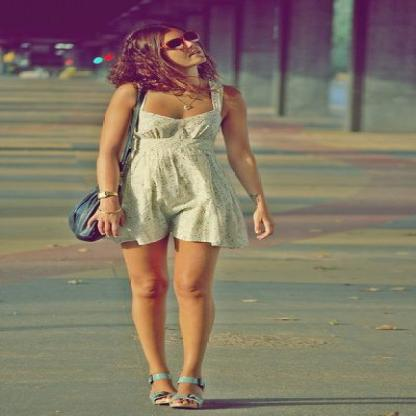bag: (54, 192, 111, 242)
dress: (105, 85, 252, 250)
shoe: (150, 365, 204, 406)
sunglass: (155, 28, 184, 44)
